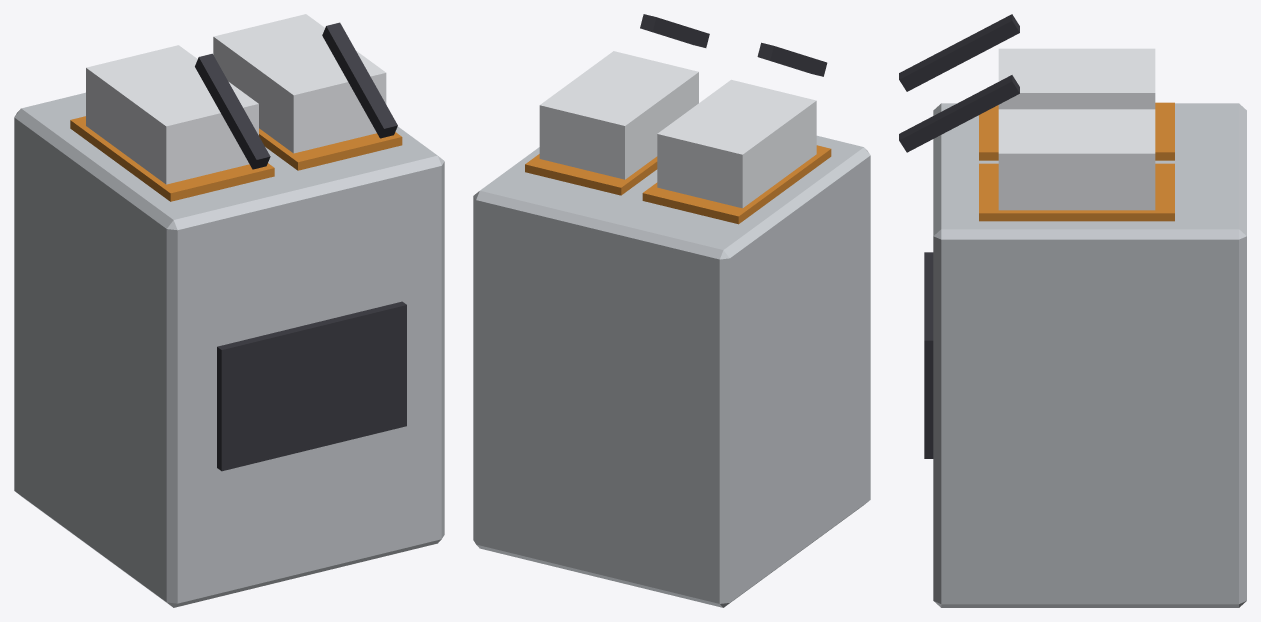
Rendered from DeepFryer.fbx.
The picture shows the model from 3 angles, left to right: view 1: azimuth 30°, elevation 25°; view 2: azimuth 150°, elevation 25°; view 3: azimuth 270°, elevation 25°; orthographic projection. The views are drawn at different scales.
Visible parts, largest first — view 1: DeepFryer; view 2: DeepFryer; view 3: DeepFryer.
Part boxes in pixels (left/top/right/bottom): DeepFryer: left=14, top=14, right=444, bottom=607; DeepFryer: left=473, top=14, right=870, bottom=607; DeepFryer: left=899, top=14, right=1246, bottom=607.
Bounding box in the file's own units: 2.4 × 4.2 × 2.66.
Materials: 1 (1 with a texture image).
